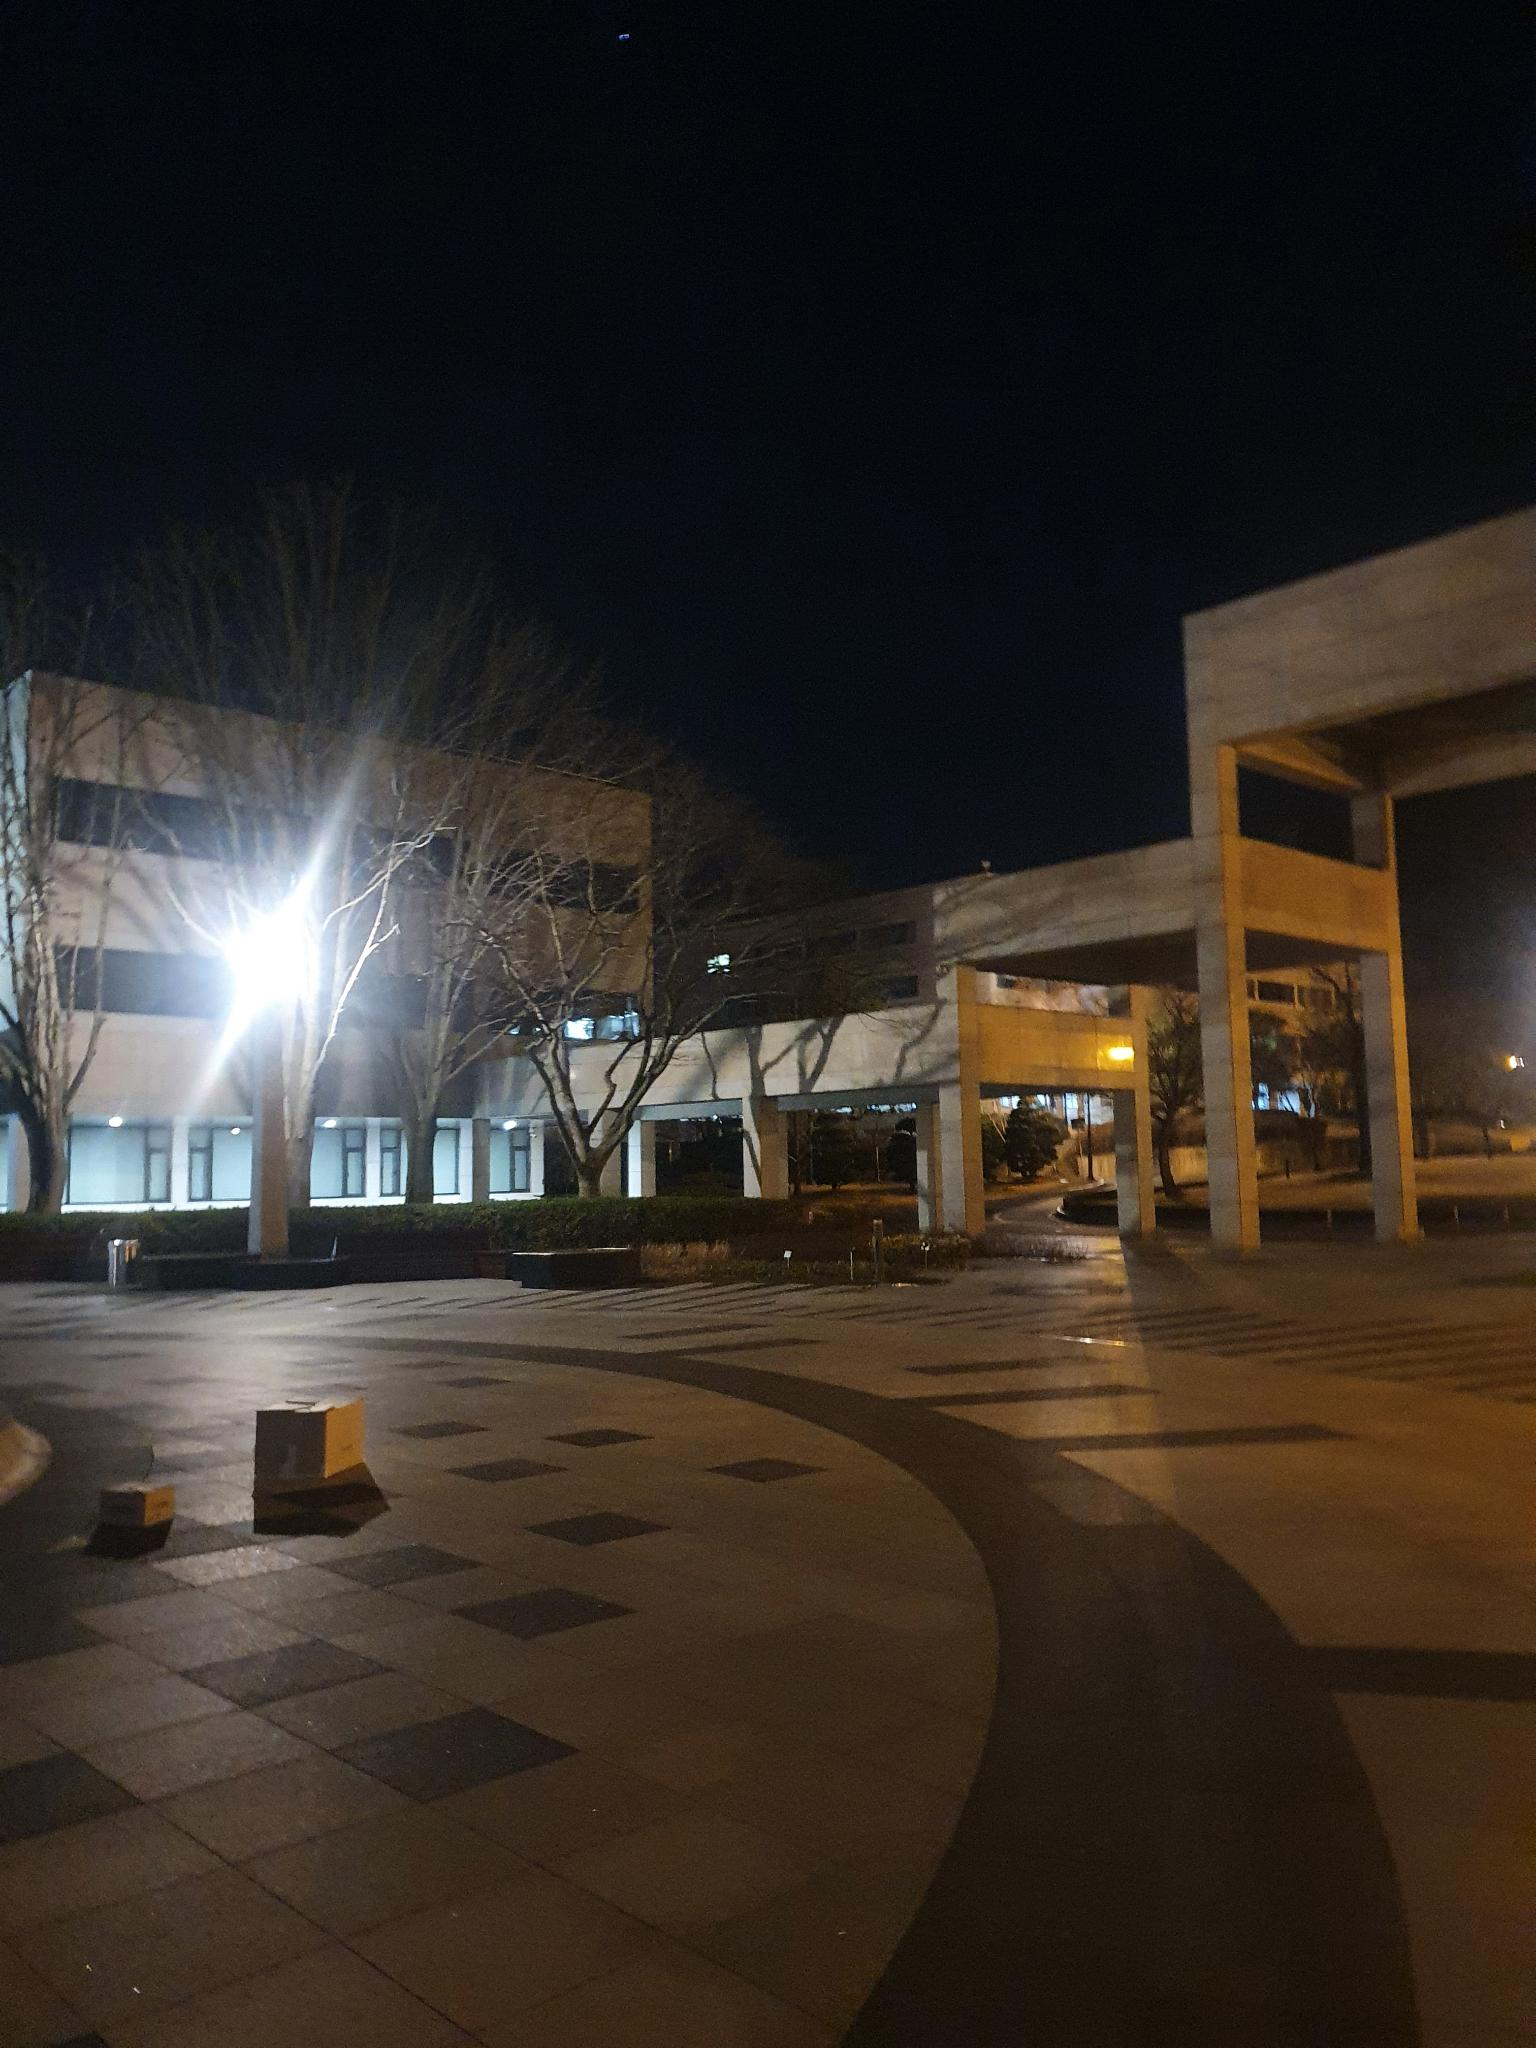Box: (258, 1382, 366, 1493), (95, 1469, 163, 1542)
